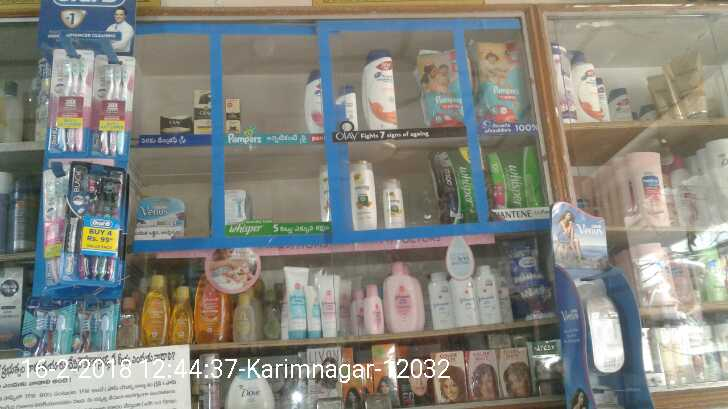venus: (581, 282, 625, 378), (140, 196, 186, 236)
